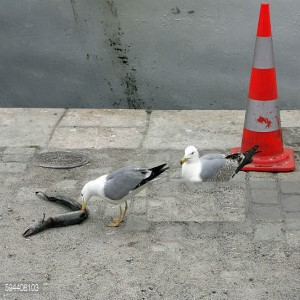traffic cone: (229, 3, 295, 173)
